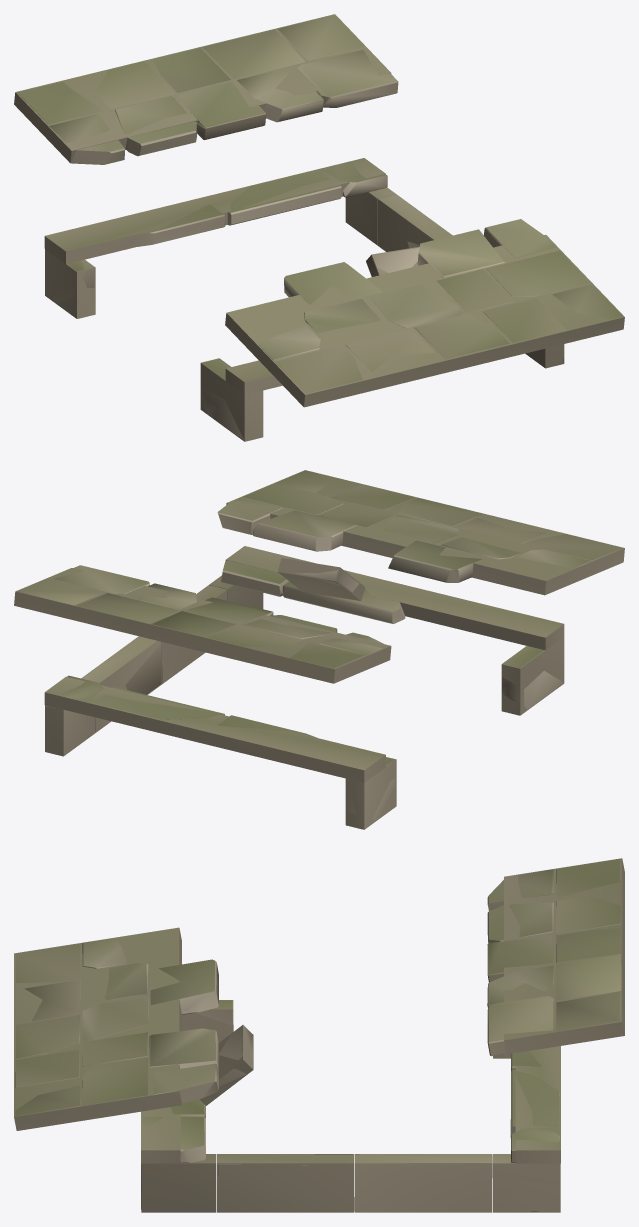
The model's file is agora_stoa_roof_broken.glb.
3 views of the same model, one above another, from view 1: azimuth 30°, elevation 25°; view 2: azimuth 150°, elevation 25°; view 3: azimuth 270°, elevation 25° (orthographic). The views are drawn at different scales.
Visible parts, largest first — view 1: agora_stoa_roof_broken, agora_stoa_roof_broken_far; view 2: agora_stoa_roof_broken_far, agora_stoa_roof_broken; view 3: agora_stoa_roof_broken, agora_stoa_roof_broken_far.
Part boxes in pixels (x1,y1,x2,y2): agora_stoa_roof_broken: (17, 15, 622, 439); agora_stoa_roof_broken_far: (14, 14, 624, 441); agora_stoa_roof_broken_far: (14, 470, 624, 829); agora_stoa_roof_broken: (17, 470, 622, 821); agora_stoa_roof_broken: (15, 859, 621, 1211); agora_stoa_roof_broken_far: (14, 858, 624, 1212).
Size of the model in its own units: 18.51 by 10.08 by 29.18.
